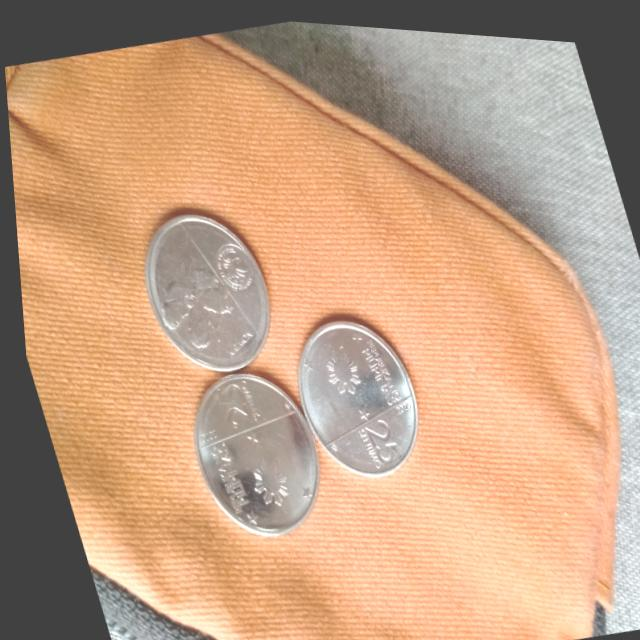25Cent_New_Back: (143, 242, 241, 356)
25Cent_New_Front: (338, 403, 404, 476), (206, 367, 263, 434)
